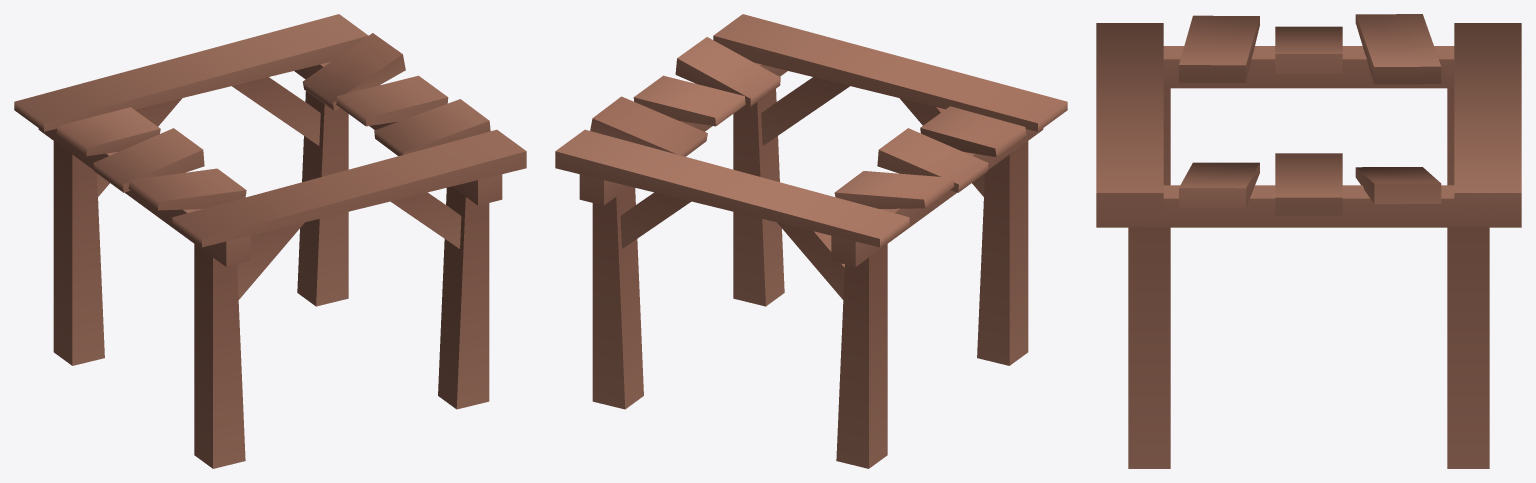
The model's file is modular-dungeon-kit--template-floor-layer-hole.glb.
The picture shows the model from 3 angles, left to right: view 1: azimuth 30°, elevation 25°; view 2: azimuth 150°, elevation 25°; view 3: azimuth 270°, elevation 25°; orthographic projection. The views are drawn at different scales.
Visible parts, largest first — view 1: template-floor-layer-hole; view 2: template-floor-layer-hole; view 3: template-floor-layer-hole.
Boxes of the visible parts, box(x1,y1,x2,y2) form: template-floor-layer-hole: box(14, 14, 526, 468); template-floor-layer-hole: box(555, 14, 1067, 468); template-floor-layer-hole: box(1096, 14, 1521, 468).
Size of the model in its own units: 4.04 by 3.09 by 4.
1 material, 1 textured.
